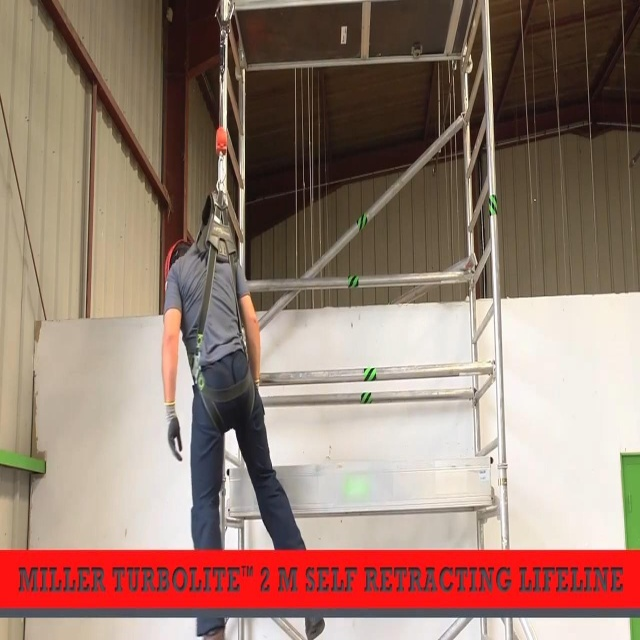Arnes_seguridad: (167, 113, 257, 446)
